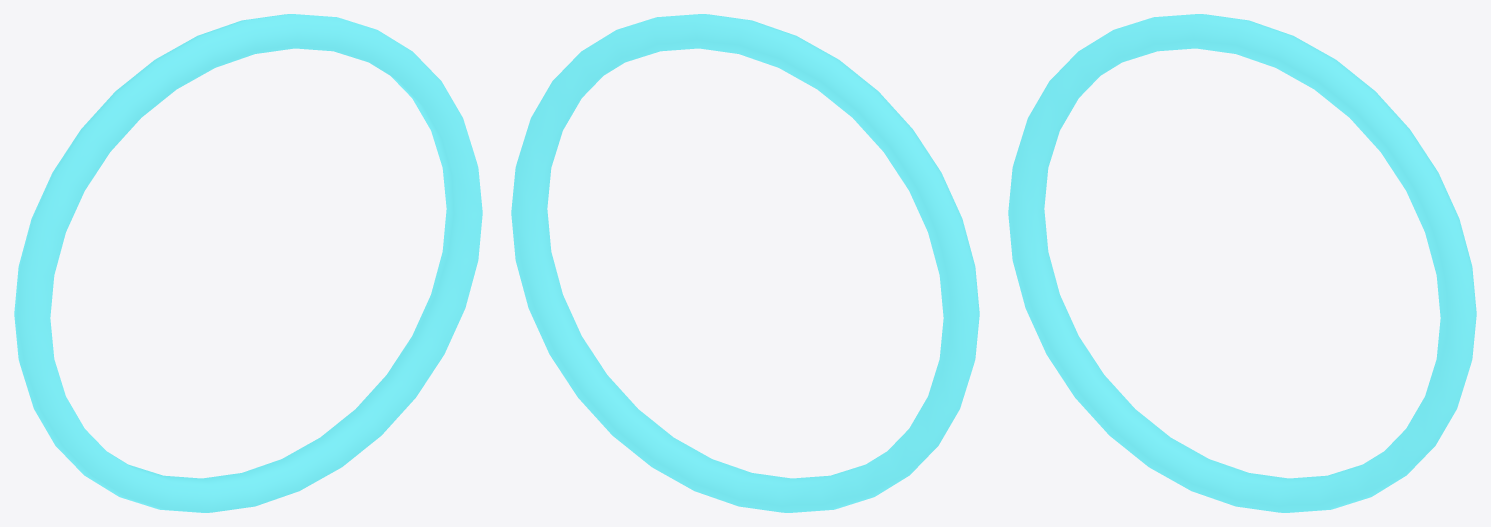
File: Círculo energia.glb
3 renders of one model, left to right at view 1: azimuth 30°, elevation 25°; view 2: azimuth 150°, elevation 25°; view 3: azimuth 330°, elevation 25°, orthographic.
Visible parts, largest first — view 1: Circle; view 2: Circle; view 3: Circle.
Boxes of the visible parts, x1,y1,x2,y2 form: Circle: [14, 14, 482, 512]; Circle: [511, 14, 979, 512]; Circle: [1008, 14, 1476, 512].
Size of the model in its own units: 17.86 by 17.86 by 0.8974.
